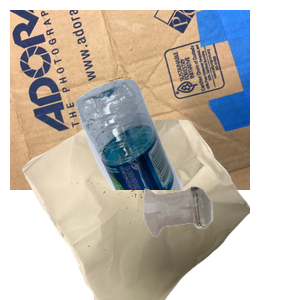cardboard: (10, 10, 250, 190)
glass: (141, 184, 300, 300)
plastic: (73, 76, 300, 256)
trash: (20, 120, 260, 300)
